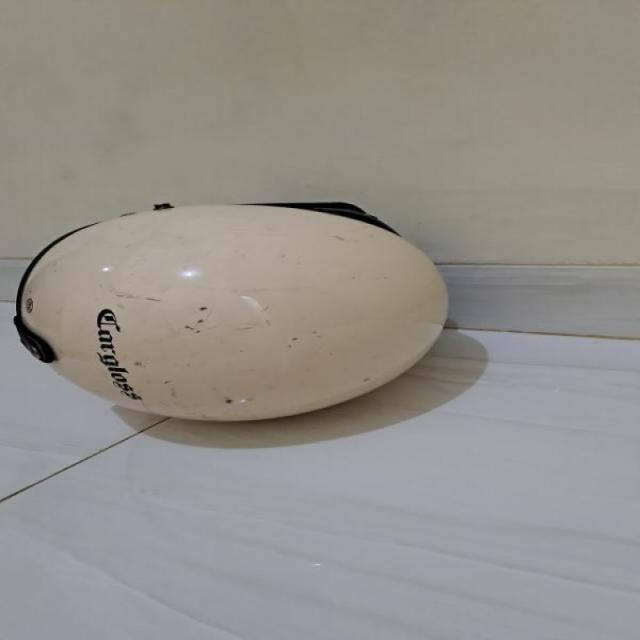Helmet: (4, 177, 454, 419)
